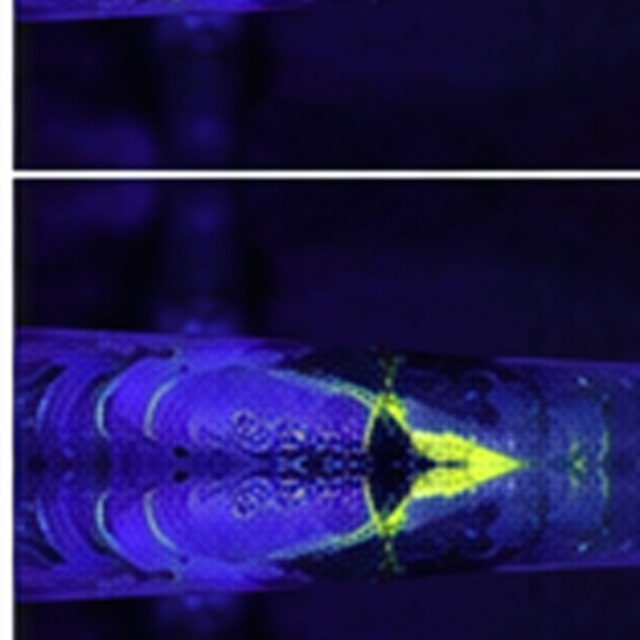hydraulic_oil_leak: (335, 386, 529, 542), (572, 456, 584, 471), (385, 543, 391, 550), (385, 378, 391, 385), (573, 444, 577, 451)
